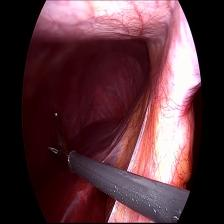Grasper: (44, 110, 74, 174)
